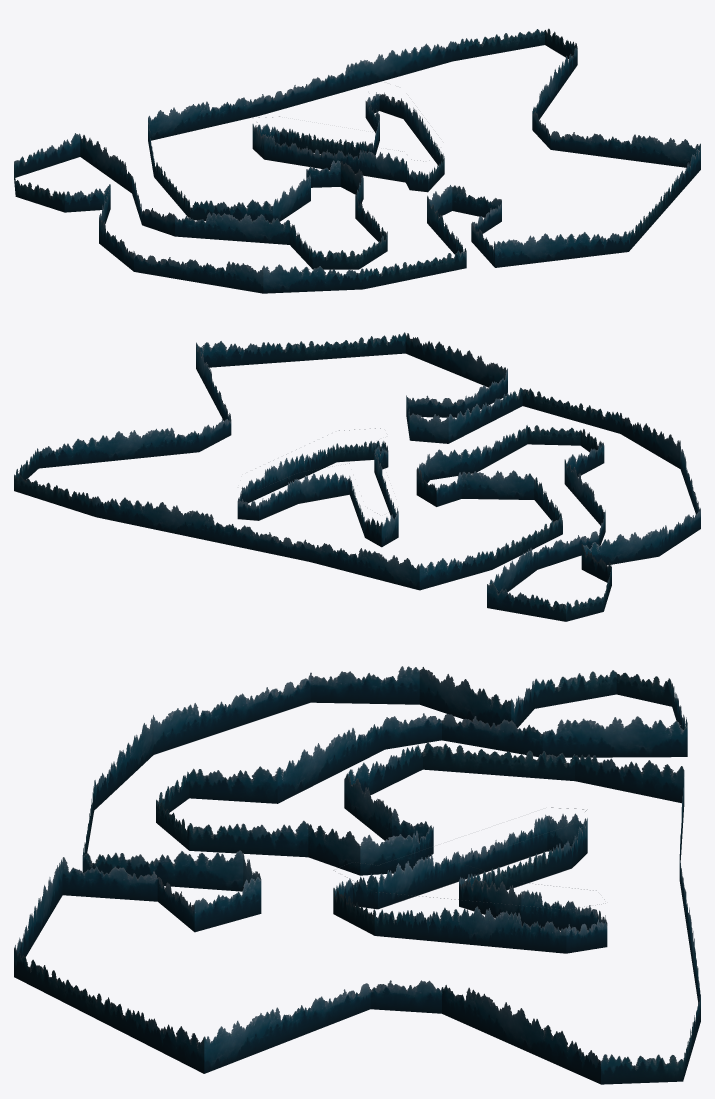
The model's file is forestWalls.glb.
The picture shows the model from 3 angles, top to bottom: view 1: azimuth 30°, elevation 25°; view 2: azimuth 150°, elevation 25°; view 3: azimuth 270°, elevation 25°; orthographic projection. The views are drawn at different scales.
Parts seen in each view (by area): view 1: symaBOunds; view 2: symaBOunds; view 3: symaBOunds.
Part boxes in pixels (x1,y1,x2,y2): symaBOunds: (14,28,700,293); symaBOunds: (14,332,700,621); symaBOunds: (14,666,700,1084).
Bounding box in the file's own units: 163 × 8.58 × 121.
1 material, 1 textured.
